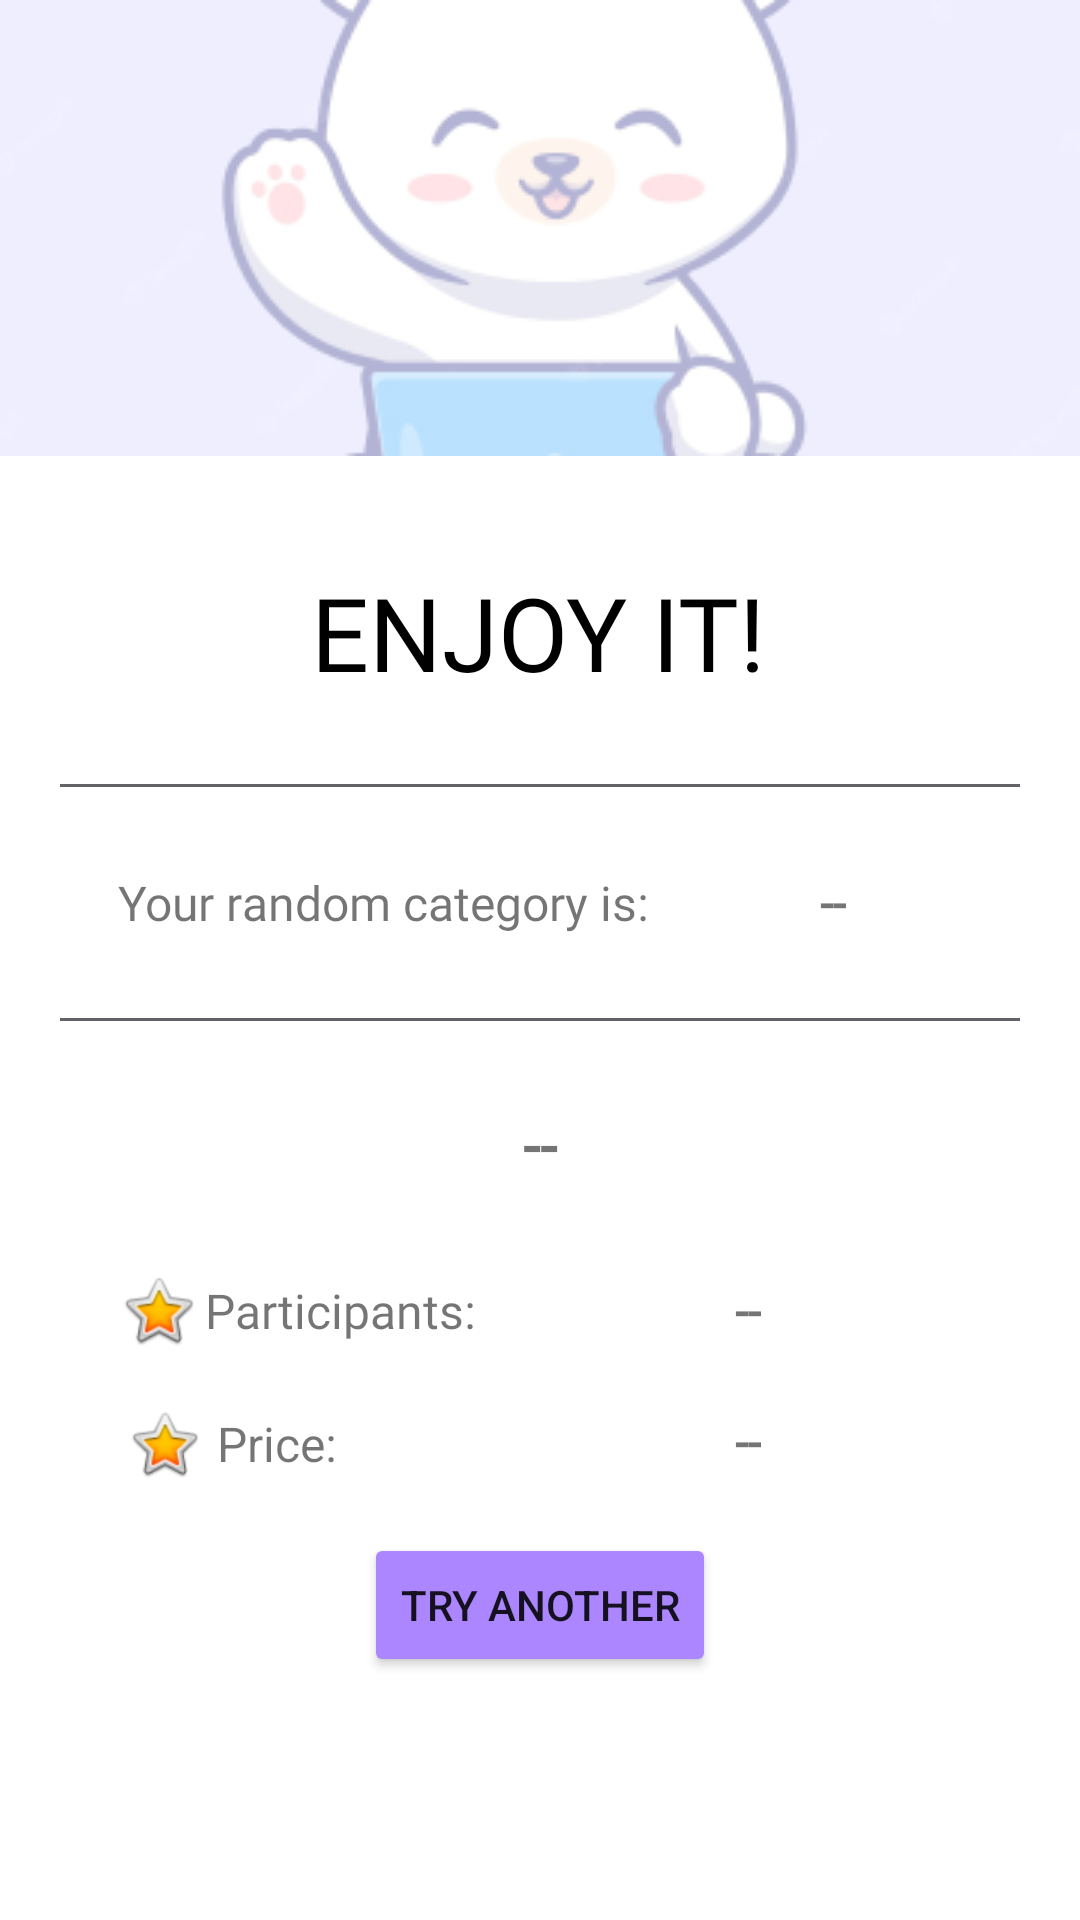

Where icons sit on this 1080*1920 app screen, as bbox(x1, y1, x2, y2):
A yellow star icon: bbox(125, 1278, 193, 1344), bbox(133, 1413, 198, 1476)
